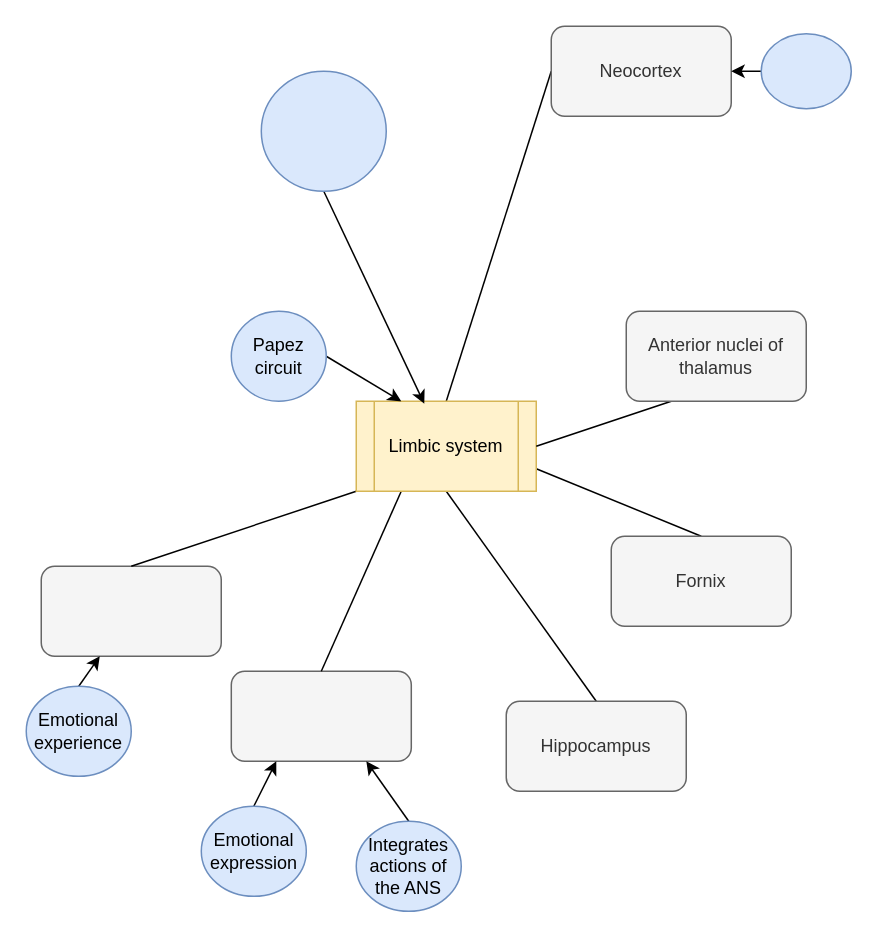
Image size: 878x938. Some labels were removed from this diagram. Each missing label, with the centre of its shape:
Cingulate cortex: (x=130, y=610)
Emotional coloring: (x=805, y=70)
Hypothalamus: (x=320, y=715)
Processes the experiencing of emotions: (x=323, y=130)
